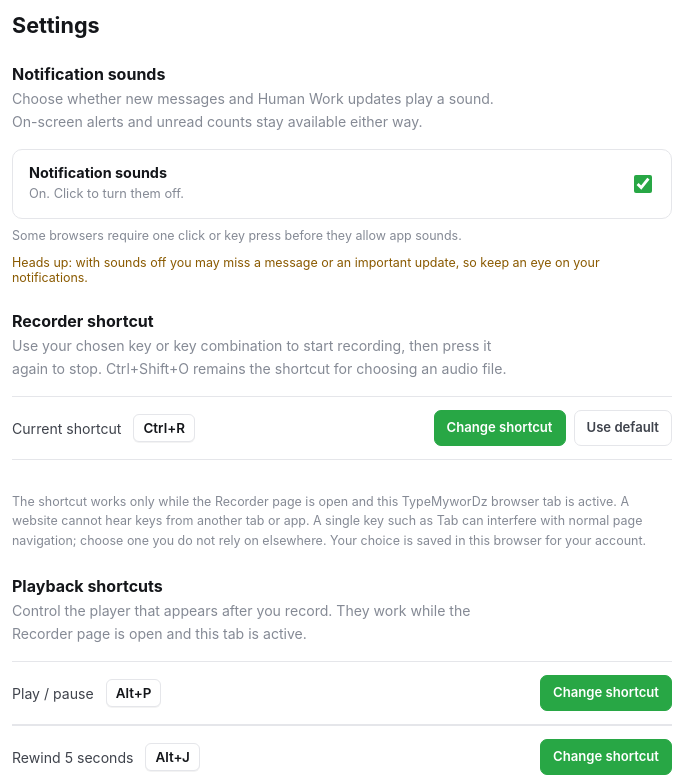
Test case: lets a client bind a single key and stores it for their browser account
This screenshot has width=689, height=780.
Expected: the heading "Recorder shortcut" is shown, [12,311,154,331]
Expected: the text "Ctrl+R" is shown, [134,414,195,442]
Click the button "Change shortcut" in the row of "Ctrl+R" at {"x": 500, "y": 428}, box [434,410,566,446]
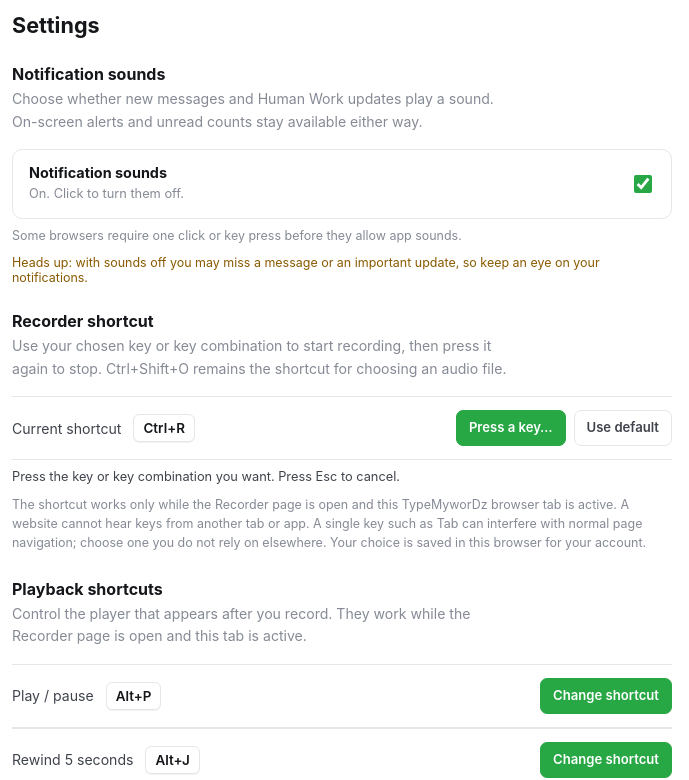
Press Tab
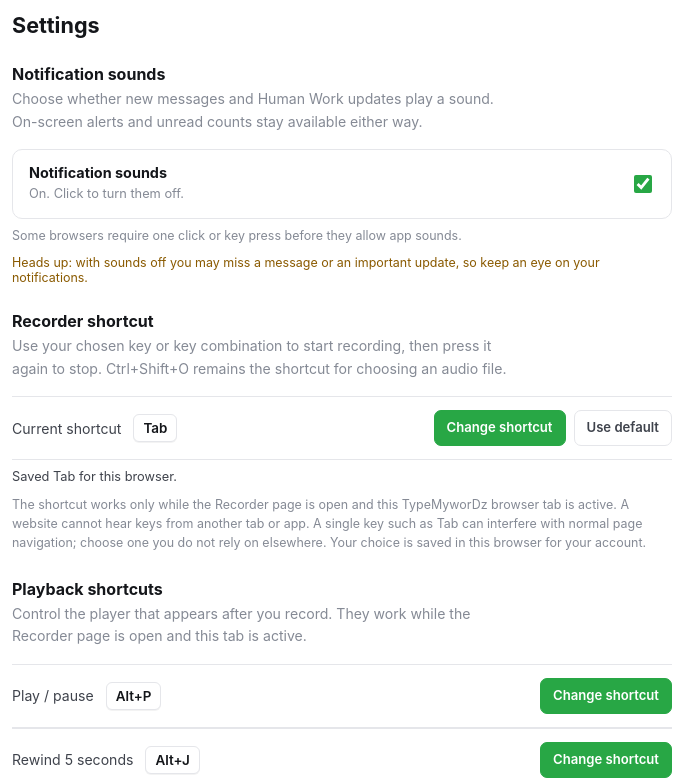
Expected: the text "Tab" is shown, [134,414,178,442]
Expected: the message reads "Saved Tab for this browser.", [12,469,177,484]
